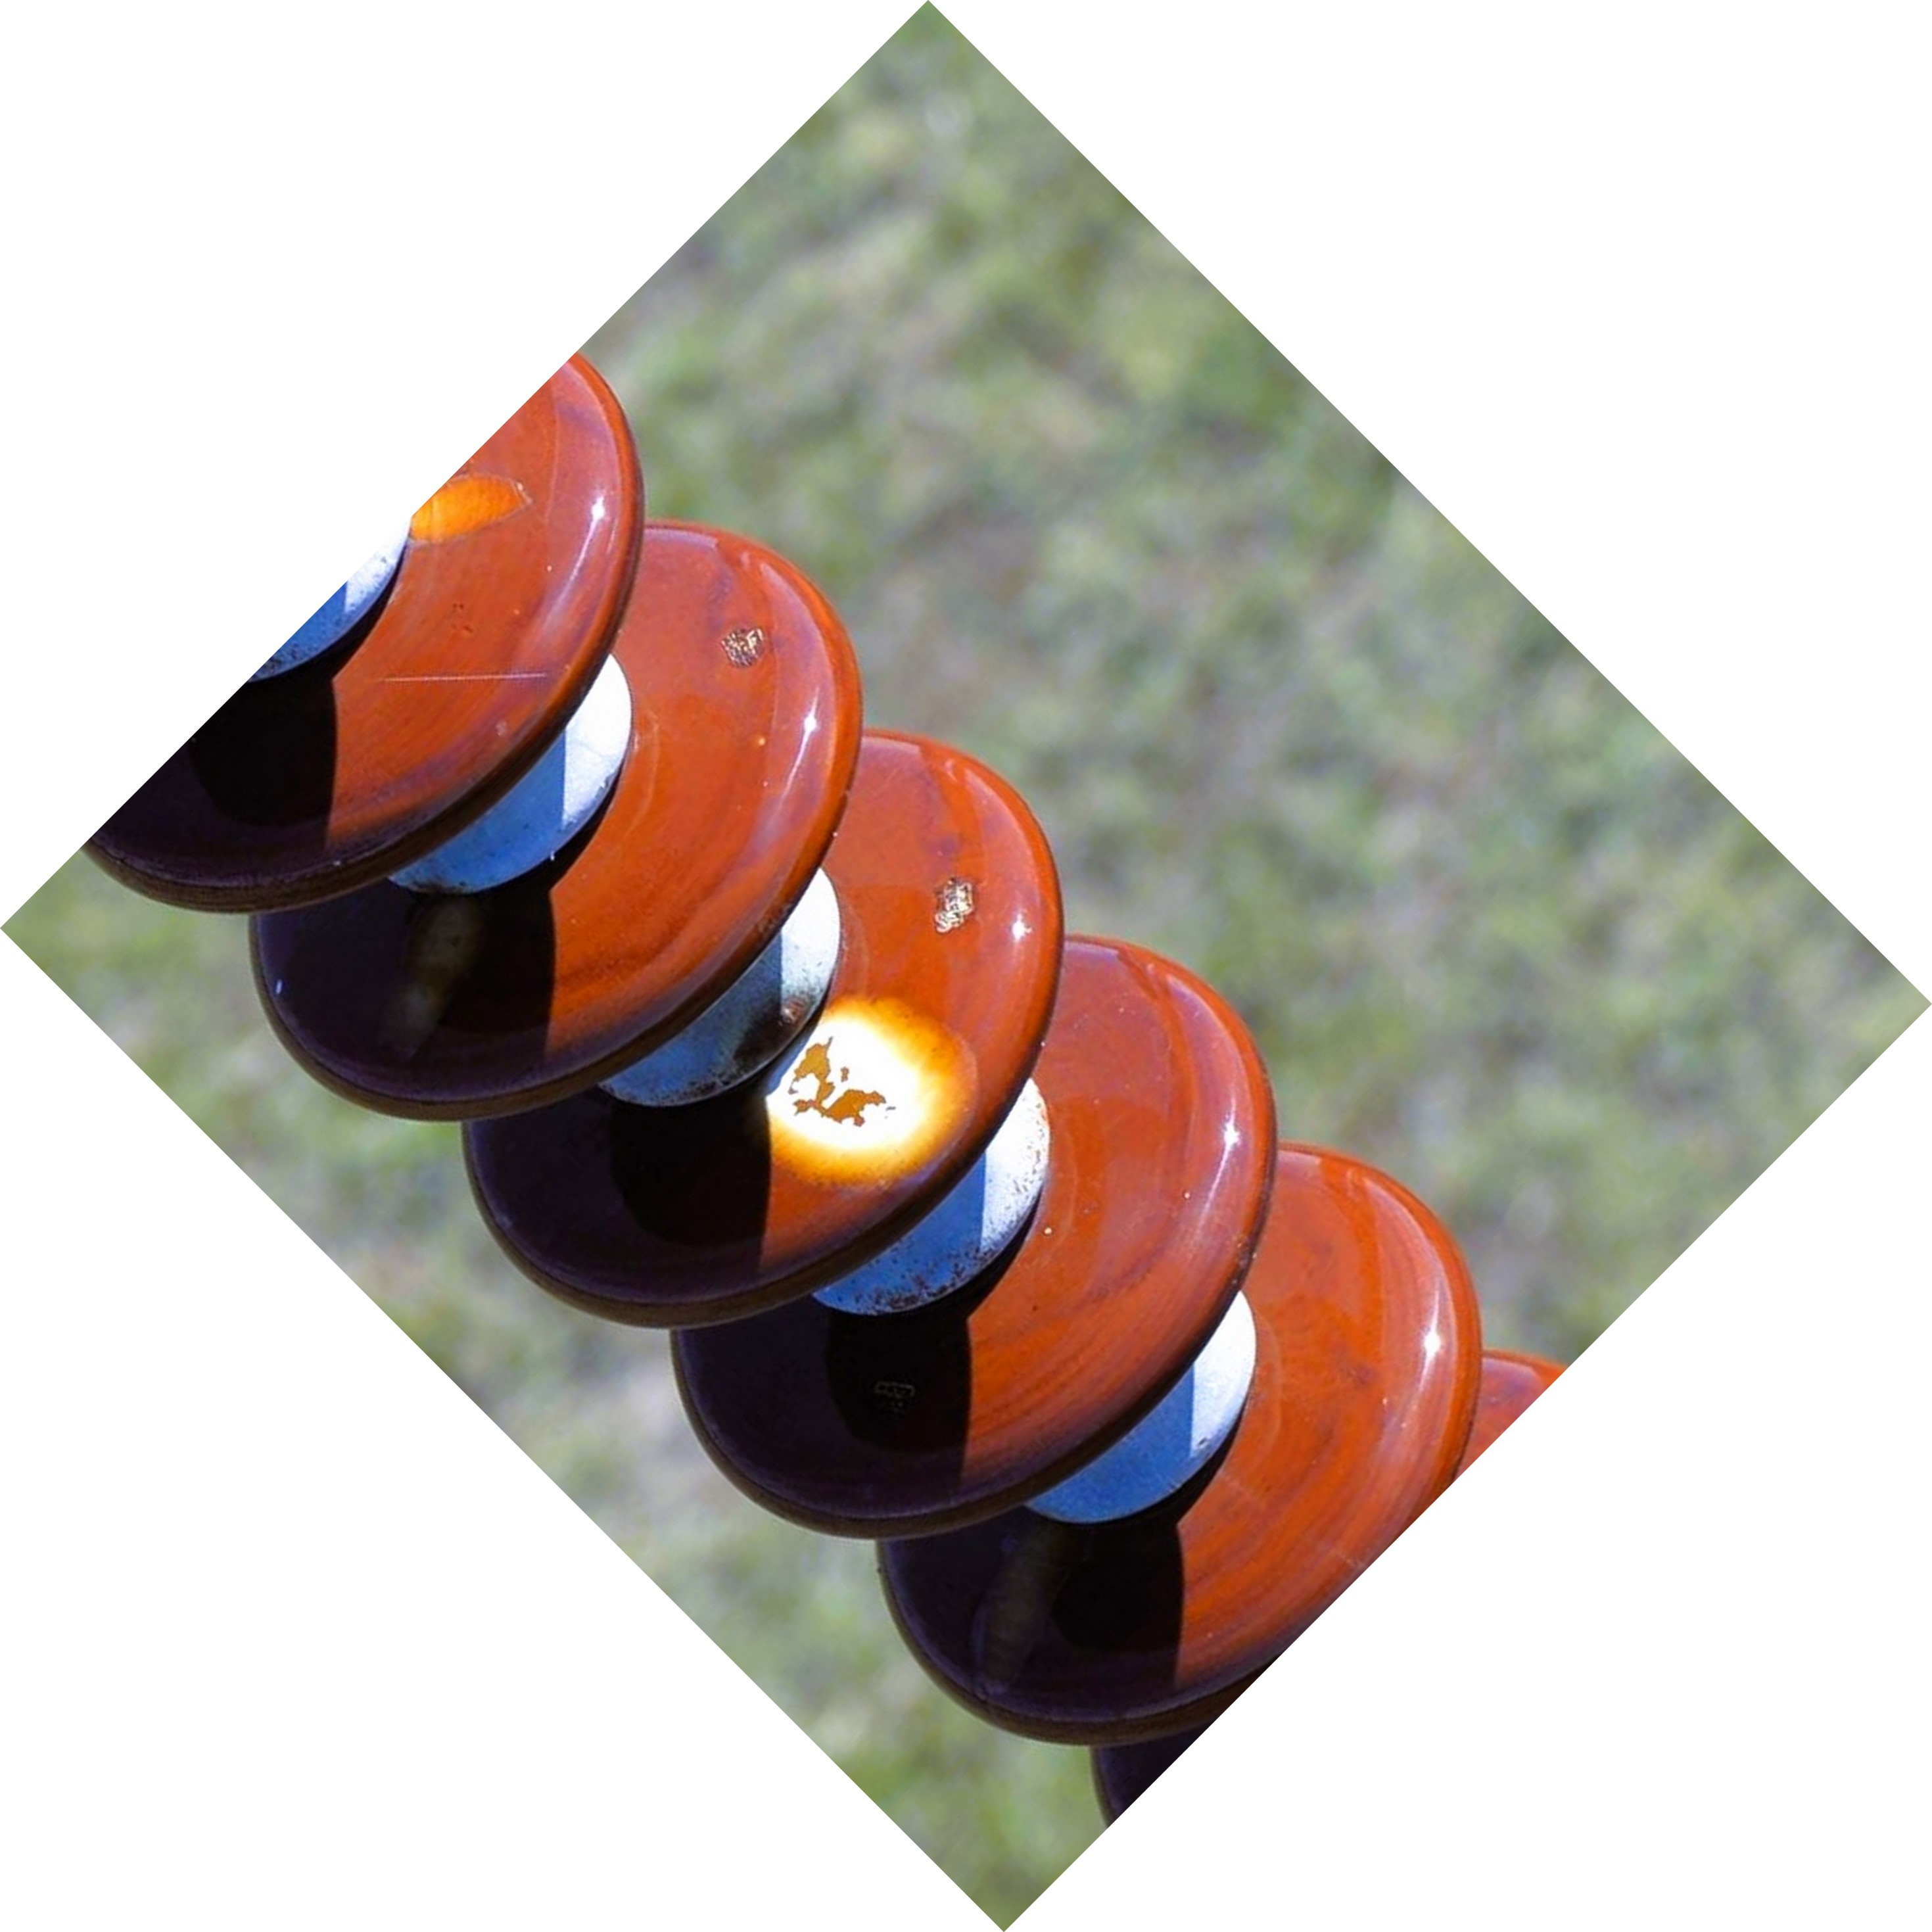Insulator flashover: (451, 727, 1079, 1332)
